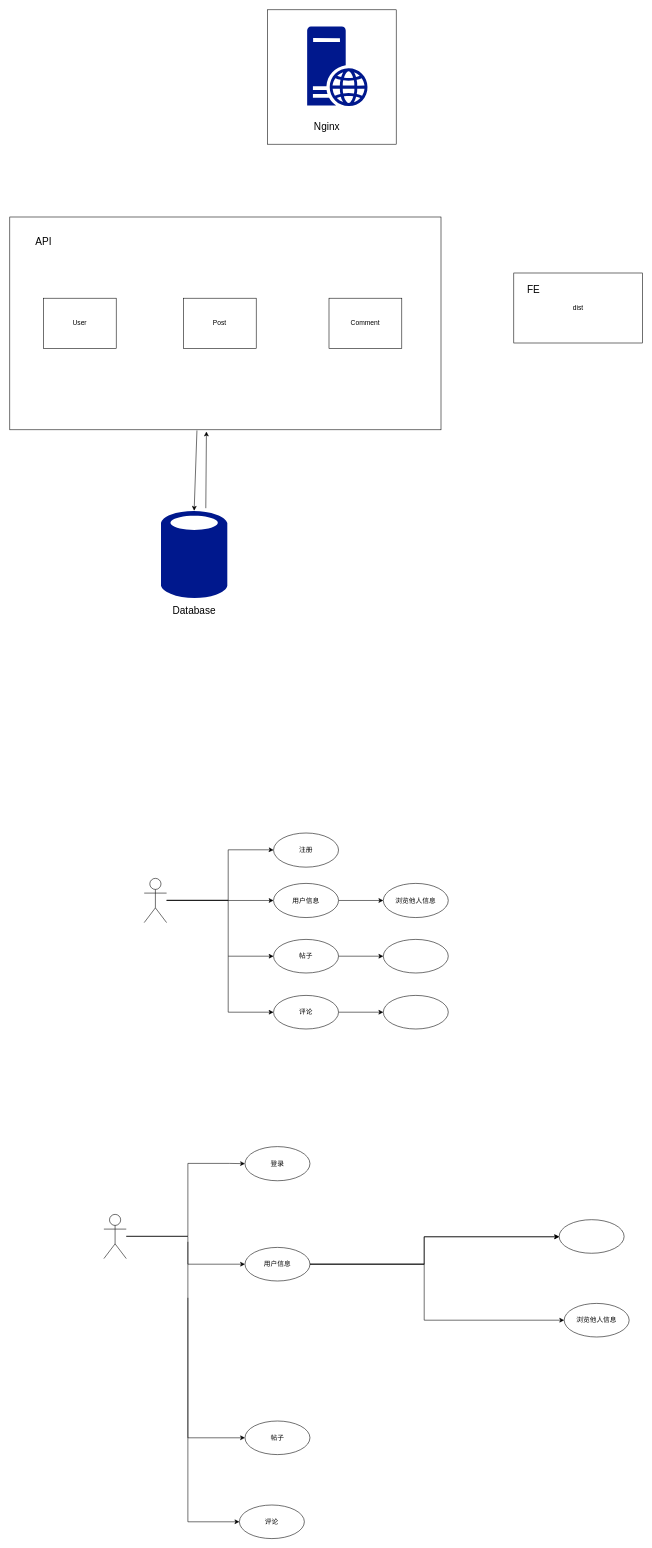
Some shapes in this 652 by 1548 pixel diagram are drawn without their labels. Here are the shapes that lost their labels. From the top down, the centre of each, then its label:
pixel 155 900: 游客
pixel 415 956: 浏览帖子
pixel 415 1012: 发表评论
pixel 114 1236: 注册用户
pixel 591 1236: 修改个人信息
